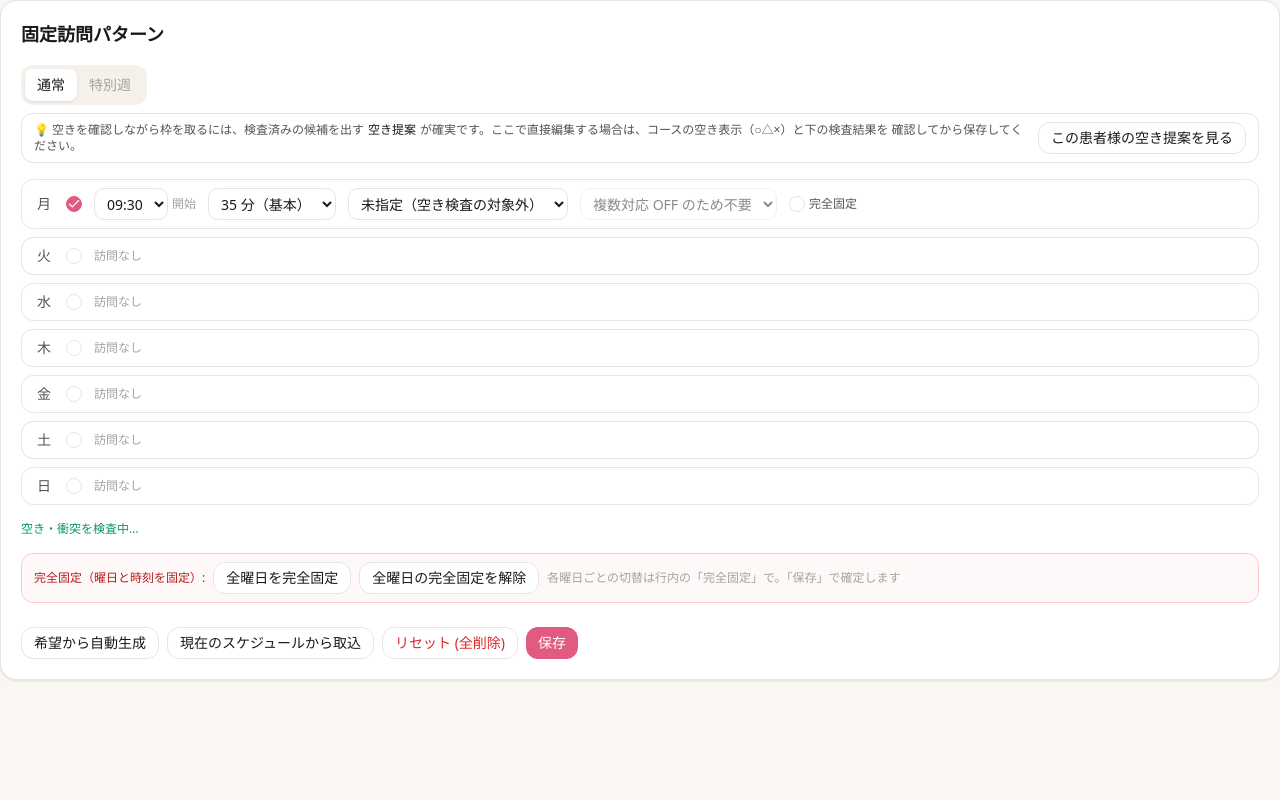
Scenario: PatientFixedVisitsPanel › Phase E: 反映先の事前確認 › E-5. 変更内容の差分が 追加 / 変更 / 削除 で出る
The width and height of the screenshot is (1280, 800).
// 月曜の開始時刻を 12:00 に変更 + 木曜を追加
Select "12:00" in the dropdown named "月 開始時刻" at (131, 204), box [94,188,168,220]
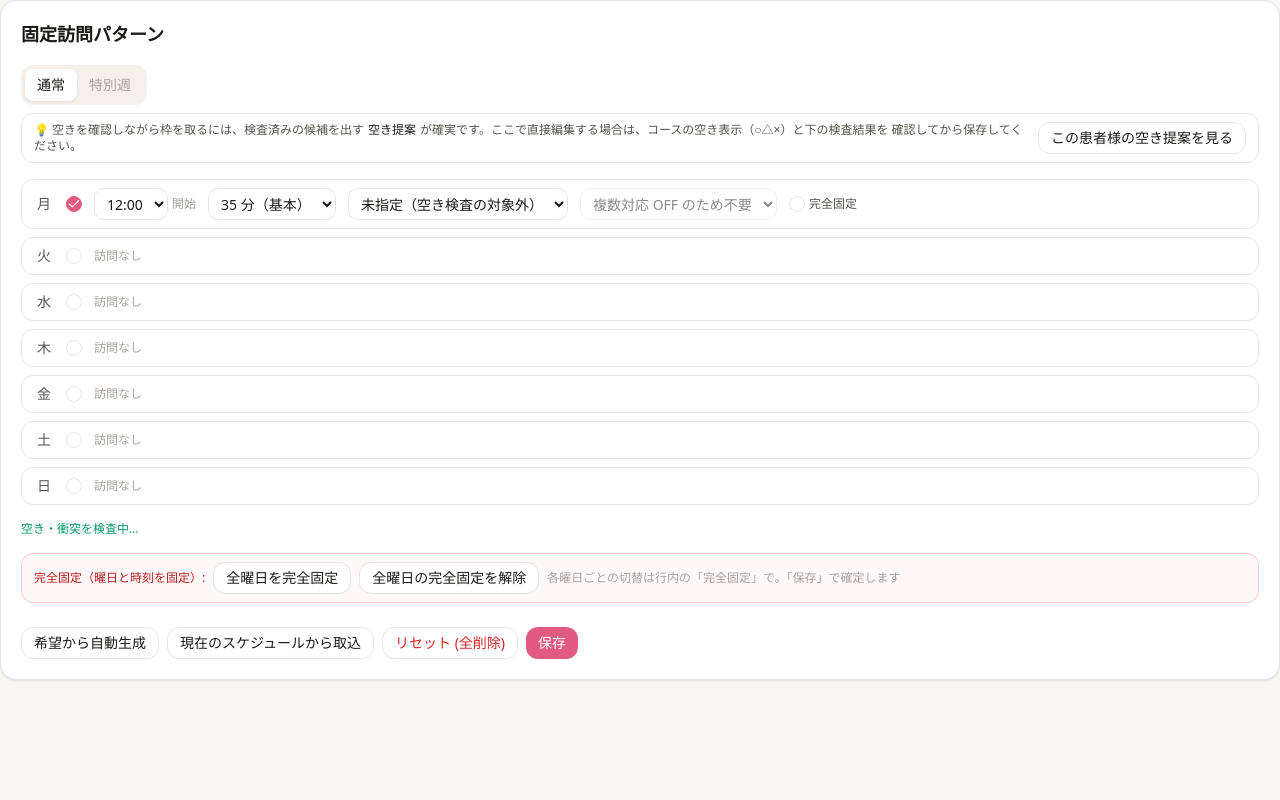
Click the checkbox named "木曜日 訪問あり" at (74, 348), box [66,340,82,356]
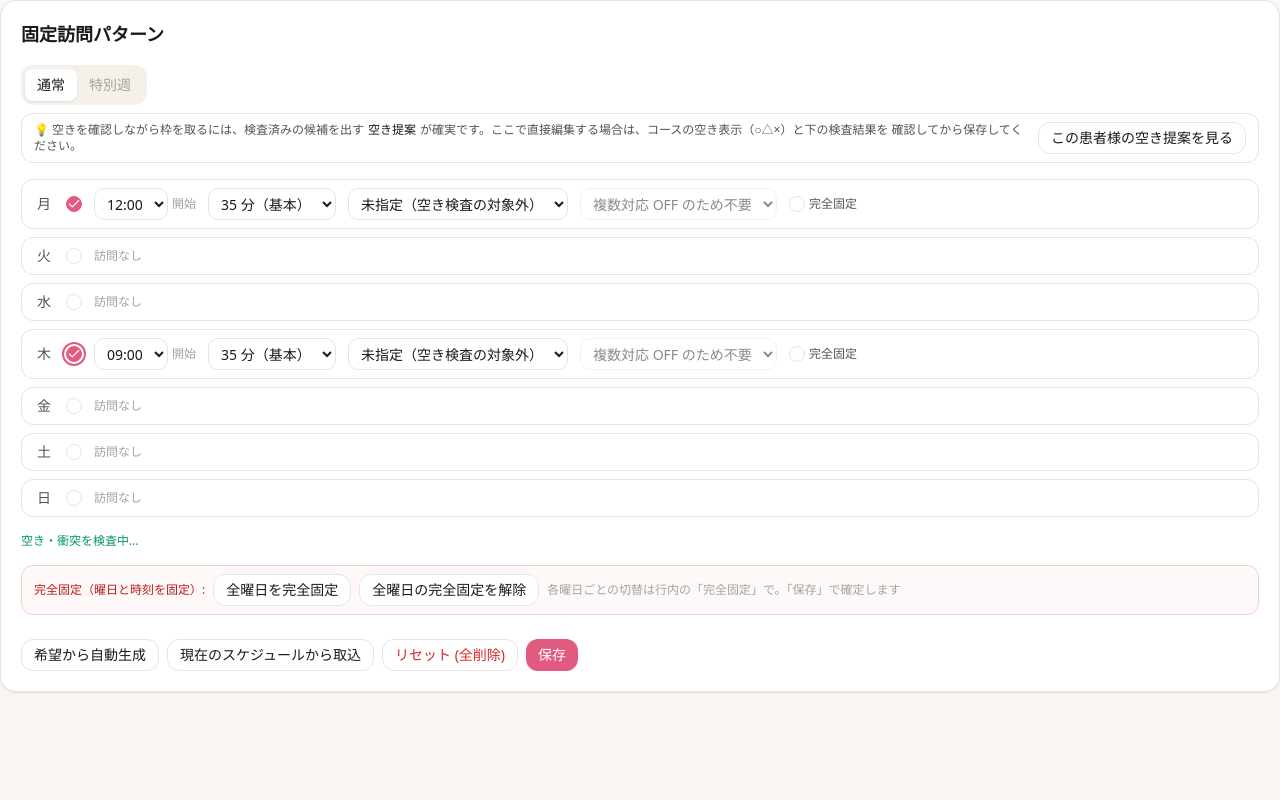
Click the button "保存" at (552, 655), box [526,639,578,671]
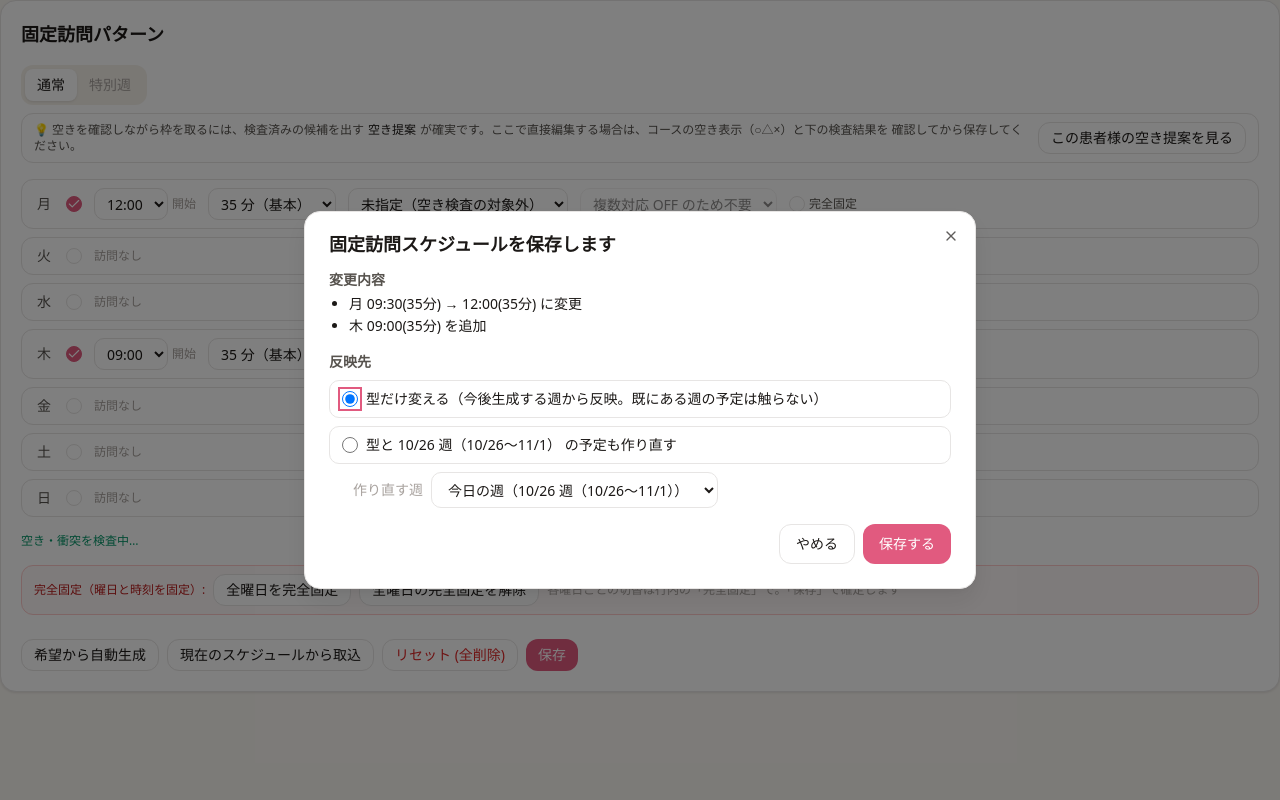
Now the element with test id "pfv-scope-diff" shows "月 09:30(35分) → 12:00(35分) に変更", box [349,294,582,313]
Now the element with test id "pfv-scope-diff" shows "木", box [349,316,486,335]
Now the element with test id "pfv-scope-diff" shows "を追加", box [349,316,486,335]
